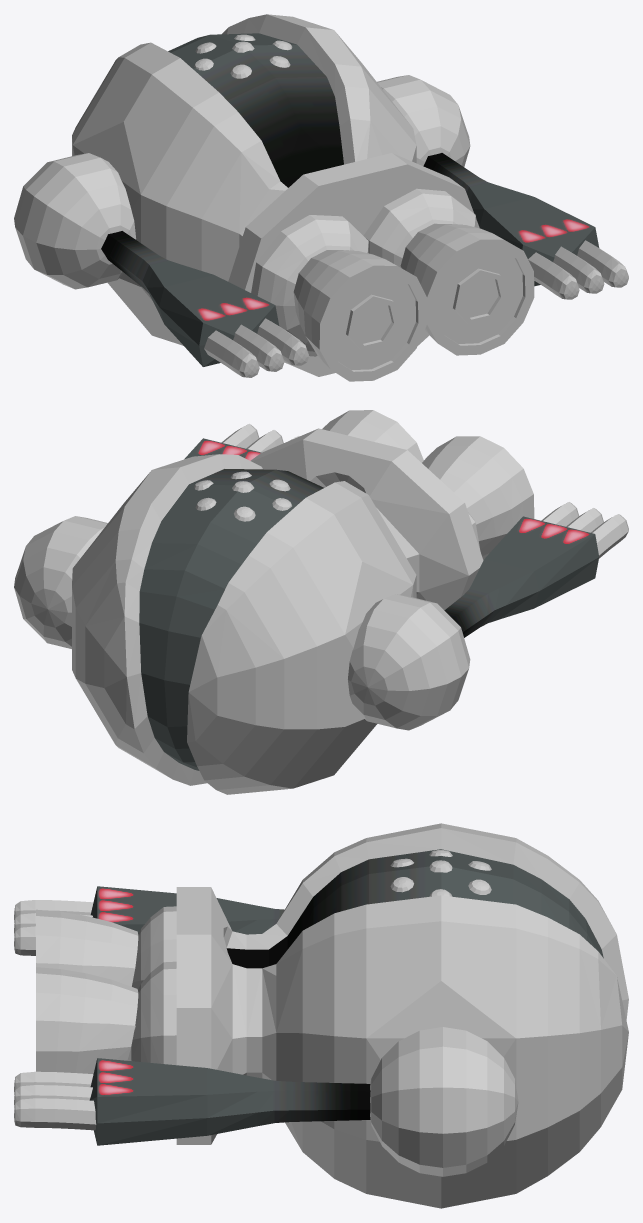
The model's file is BR_Registeel-Shiny01.obj.
3 views of the same model, one above another, from view 1: azimuth 30°, elevation 25°; view 2: azimuth 150°, elevation 25°; view 3: azimuth 270°, elevation 25° (orthographic). The views are drawn at different scales.
Parts seen in each view (by area): view 1: registeel; view 2: registeel; view 3: registeel.
Part boxes in pixels (box(x1,y1,x2,y2)): registeel: box(14, 14, 628, 381); registeel: box(14, 410, 628, 794); registeel: box(14, 823, 628, 1208).
Bounding box in the file's own units: 17.84 × 11.6 × 19.67.
